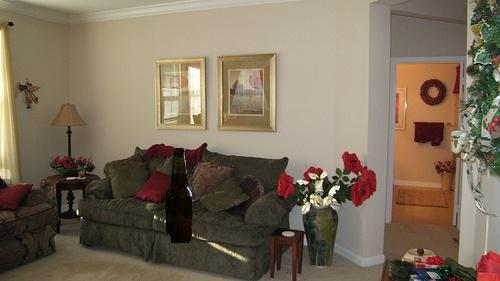tampered: (166, 149, 192, 243)
